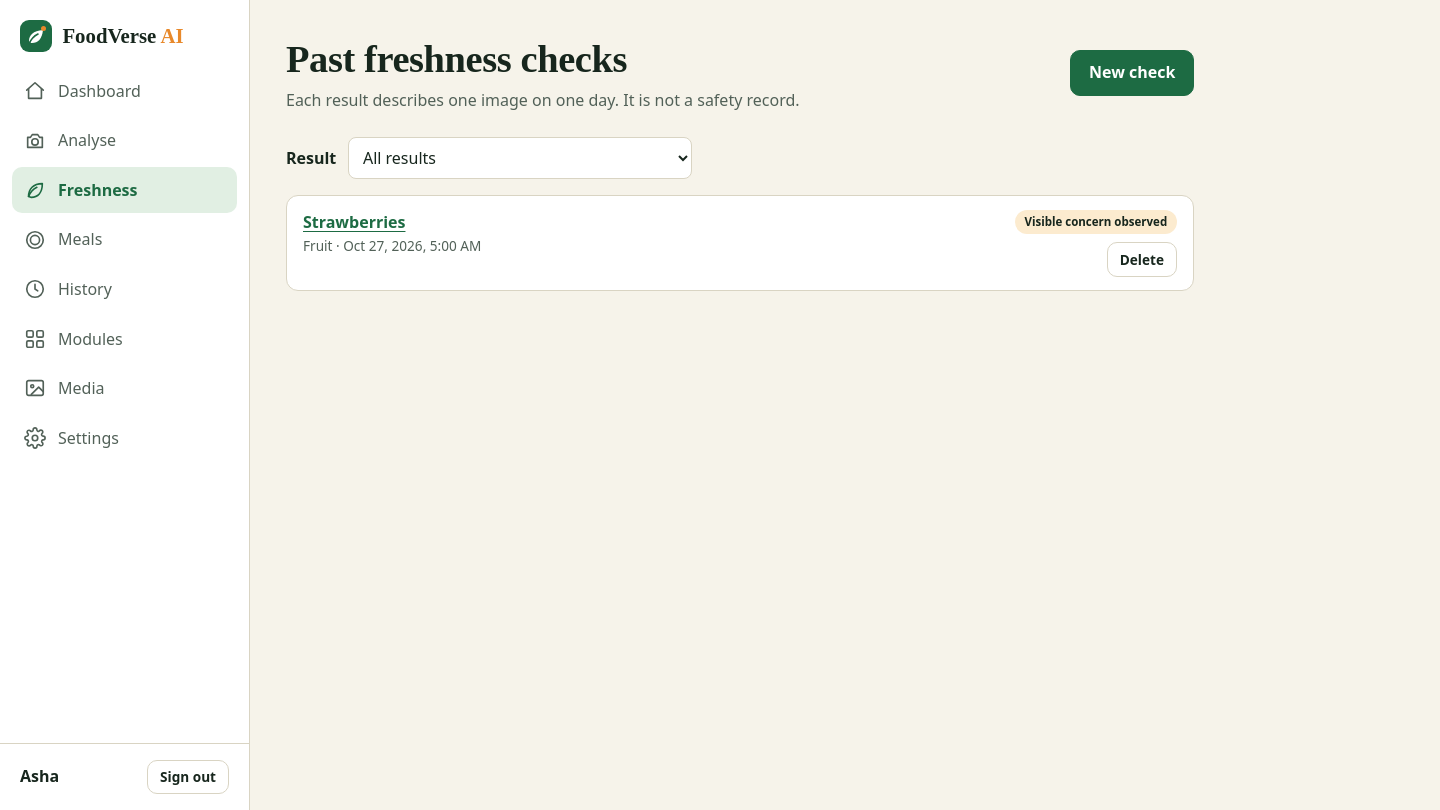
Test: freshness history › lists checks with labels, links to detail and filters by result
Expected: the text "Visible concern observed" is shown, [1015, 210, 1177, 234]
Select "Inconclusive" in the dropdown labelled "Result" at (520, 158), box [348, 137, 692, 179]
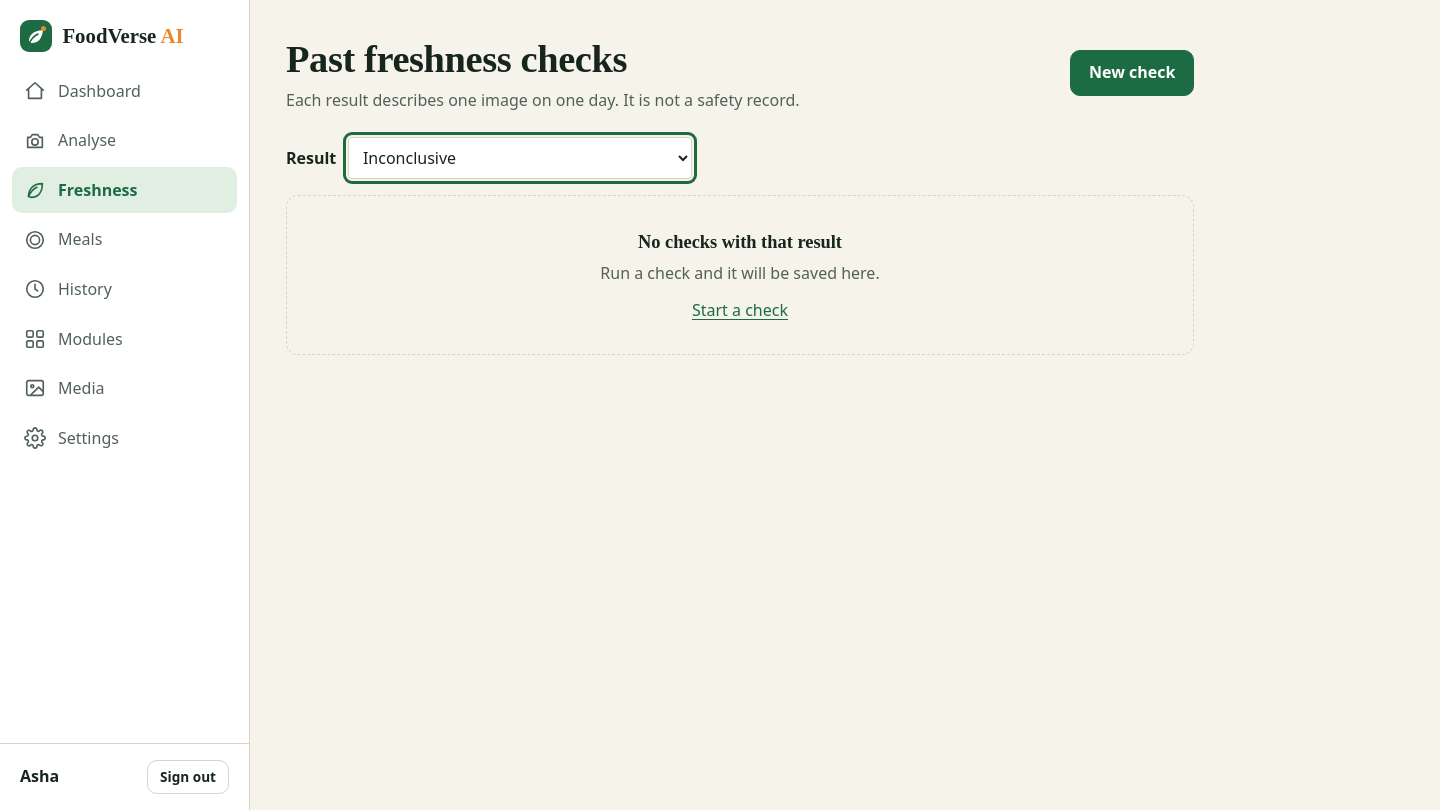
Expected: the text "No checks with that result" is shown, [638, 232, 842, 252]
